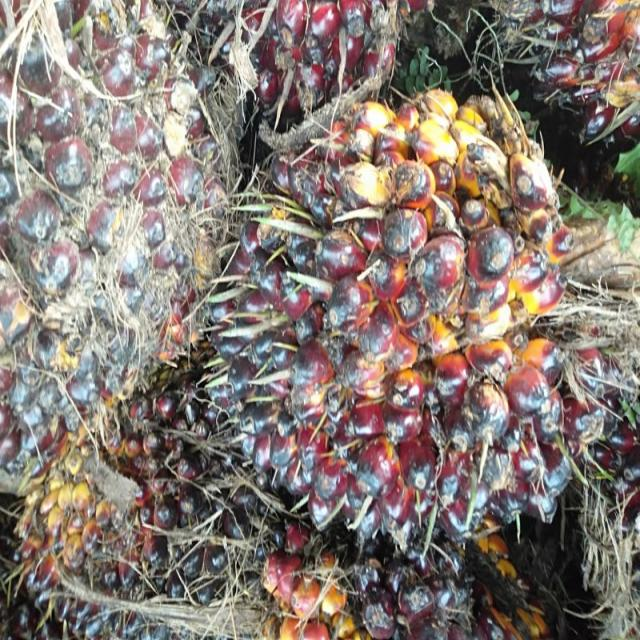fraksi 1: (215, 84, 630, 557)
